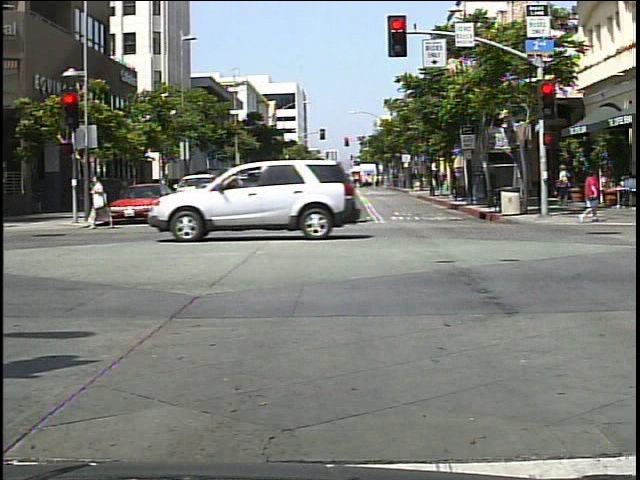person: (86, 172, 118, 236), (575, 169, 607, 230), (553, 161, 573, 210)
